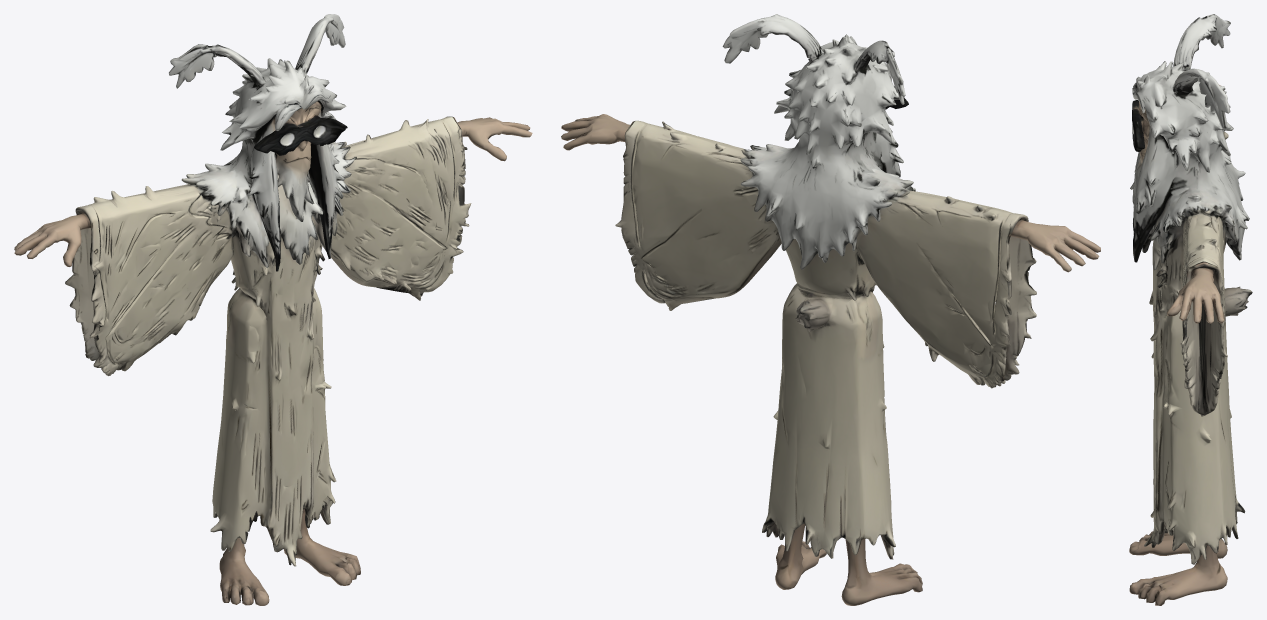
The model's file is elder_lantern.glb.
3 views of the same model, side by side, from view 1: azimuth 30°, elevation 25°; view 2: azimuth 150°, elevation 25°; view 3: azimuth 270°, elevation 25° (orthographic). The views are drawn at different scales.
Visible parts, largest first — view 1: elder_lantern; view 2: elder_lantern; view 3: elder_lantern.
Part boxes in pixels (x1,y1,x2,y2): elder_lantern: [14, 14, 532, 605]; elder_lantern: [561, 14, 1100, 605]; elder_lantern: [1129, 14, 1252, 605].
Size of the model in its own units: 1.8 by 1.8 by 0.3796.
Materials: 1 (1 with a texture image).
